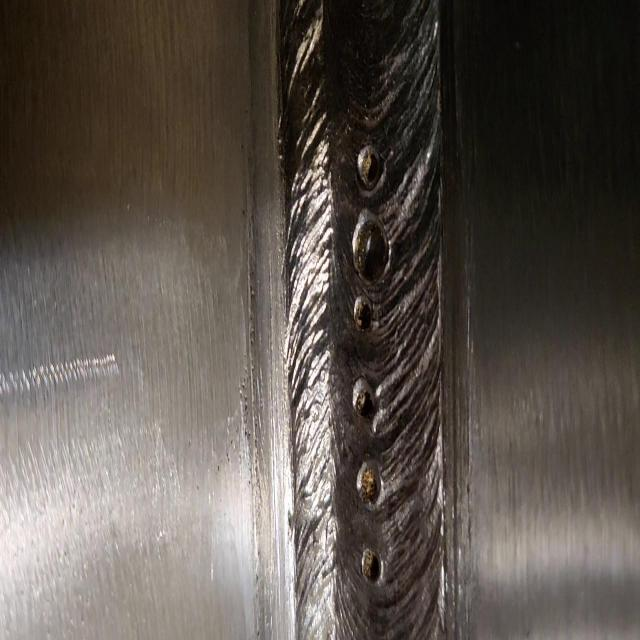Welding Line: (285, 5, 449, 640)
porosity: (352, 146, 390, 589)
